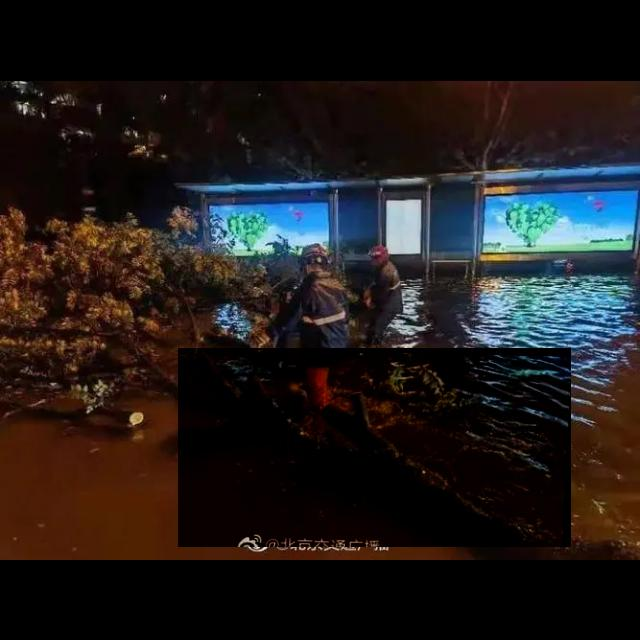Fallen Tree: (178, 348, 572, 548)
